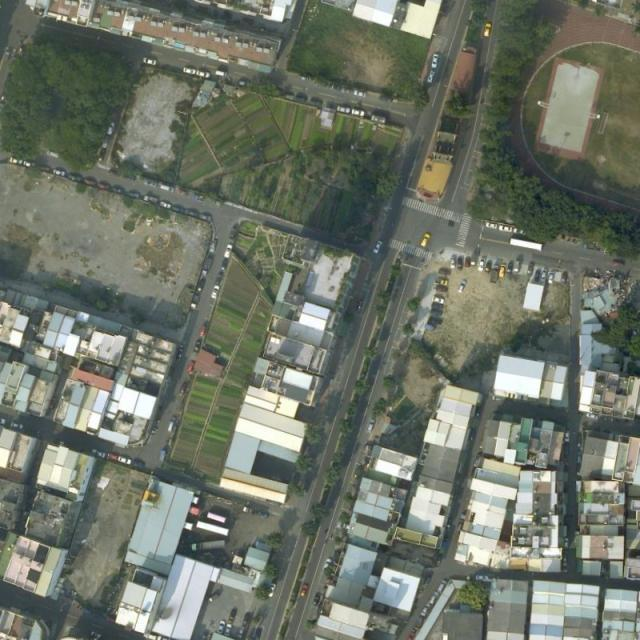vehicle: (509, 238, 542, 252), (192, 540, 225, 551), (370, 112, 388, 125), (166, 416, 178, 434), (419, 602, 432, 617), (428, 590, 441, 605), (405, 627, 419, 640), (322, 558, 334, 573), (437, 579, 449, 594), (299, 583, 310, 598), (67, 172, 82, 183), (178, 382, 188, 398), (193, 340, 203, 356), (242, 610, 252, 626), (126, 190, 142, 200), (203, 257, 214, 271), (434, 275, 448, 286), (190, 295, 200, 310), (143, 194, 158, 204), (38, 165, 54, 174), (142, 178, 158, 187), (141, 57, 157, 66), (223, 245, 234, 258), (112, 185, 125, 196), (217, 621, 227, 635), (224, 624, 234, 638), (310, 98, 324, 108), (196, 69, 210, 79), (430, 309, 444, 319), (432, 295, 446, 305), (483, 22, 491, 39), (211, 286, 220, 301), (268, 583, 277, 598), (158, 201, 173, 210), (159, 183, 174, 192), (351, 109, 366, 118), (435, 286, 450, 295), (499, 224, 514, 233), (366, 419, 375, 434), (477, 258, 486, 273), (312, 594, 322, 607), (185, 208, 198, 218), (485, 220, 498, 230), (456, 279, 466, 292), (527, 262, 535, 278), (560, 271, 568, 287), (90, 631, 104, 640), (196, 279, 205, 293), (107, 122, 116, 136), (198, 213, 212, 222), (83, 178, 97, 187), (182, 66, 196, 75), (214, 69, 228, 78), (427, 70, 436, 84), (330, 82, 342, 92), (9, 158, 24, 166), (118, 458, 133, 466), (421, 234, 431, 246), (541, 270, 549, 285), (492, 266, 499, 283), (215, 273, 224, 286), (237, 625, 246, 638), (47, 150, 60, 159), (97, 182, 110, 191), (429, 316, 442, 325), (209, 239, 217, 253), (98, 148, 106, 162), (172, 206, 186, 214), (94, 450, 108, 458), (506, 261, 514, 275), (177, 188, 188, 198), (186, 362, 195, 374), (53, 169, 65, 178), (514, 228, 526, 237), (513, 259, 520, 274), (499, 263, 506, 278), (548, 271, 555, 286), (24, 161, 37, 169), (229, 610, 237, 623), (354, 90, 367, 98), (238, 79, 251, 87), (294, 96, 306, 104), (432, 54, 438, 70), (374, 242, 382, 254), (102, 136, 110, 148), (221, 258, 228, 271), (10, 422, 23, 429), (432, 303, 445, 310), (470, 254, 477, 267), (533, 269, 540, 282), (475, 574, 488, 581), (585, 413, 598, 420), (563, 444, 569, 458), (563, 554, 569, 568), (338, 106, 350, 113), (438, 269, 450, 276), (341, 86, 351, 94), (565, 431, 571, 444), (457, 257, 463, 270), (200, 326, 207, 337), (563, 538, 570, 548), (486, 260, 491, 274), (450, 256, 455, 269), (465, 256, 470, 267), (1, 418, 7, 426)
